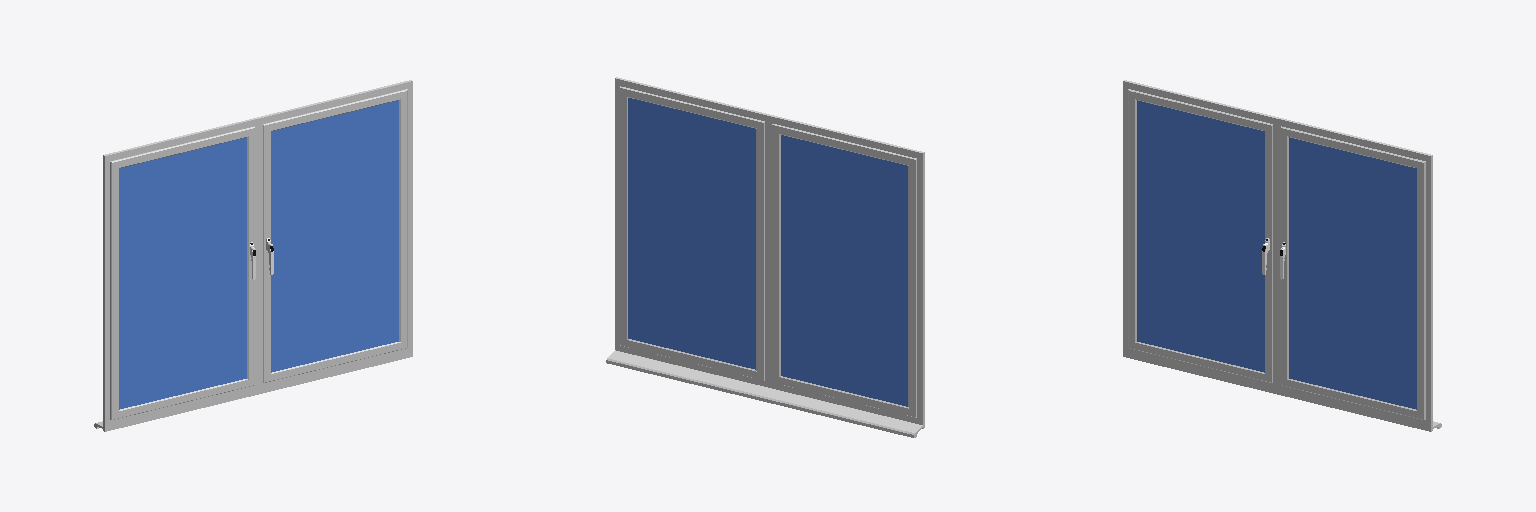
3 views of the same model, side by side, from view 1: azimuth 30°, elevation 25°; view 2: azimuth 150°, elevation 25°; view 3: azimuth 330°, elevation 25° (orthographic).
Parts seen in each view (by area): view 1: Mesh8_Glass2_Component_1_2_Component_2_1_Model, Mesh4_Glass1_Component_1_1_Component_2_1_Model, Mesh9_Component_2_1_Model, Mesh1_Frame1_Component_1_1_Component_2_1_Model, Mesh5_Frame2_Component_1_2_Component_2_1_Model; view 2: Mesh3_Glass1_Component_1_1_Component_2_1_Model, Mesh7_Glass2_Component_1_2_Component_2_1_Model, Mesh9_Component_2_1_Model, Mesh5_Frame2_Component_1_2_Component_2_1_Model, Mesh1_Frame1_Component_1_1_Component_2_1_Model; view 3: Mesh4_Glass1_Component_1_1_Component_2_1_Model, Mesh8_Glass2_Component_1_2_Component_2_1_Model, Mesh9_Component_2_1_Model, Mesh5_Frame2_Component_1_2_Component_2_1_Model, Mesh1_Frame1_Component_1_1_Component_2_1_Model.
Part boxes in pixels (left/top/right/bottom): Mesh8_Glass2_Component_1_2_Component_2_1_Model: left=119, top=137, right=246, bottom=409; Mesh4_Glass1_Component_1_1_Component_2_1_Model: left=271, top=100, right=398, bottom=372; Mesh9_Component_2_1_Model: left=94, top=80, right=412, bottom=431; Mesh1_Frame1_Component_1_1_Component_2_1_Model: left=263, top=89, right=407, bottom=382; Mesh5_Frame2_Component_1_2_Component_2_1_Model: left=110, top=126, right=254, bottom=419; Mesh3_Glass1_Component_1_1_Component_2_1_Model: left=628, top=98, right=755, bottom=369; Mesh7_Glass2_Component_1_2_Component_2_1_Model: left=781, top=135, right=907, bottom=406; Mesh9_Component_2_1_Model: left=606, top=77, right=924, bottom=437; Mesh5_Frame2_Component_1_2_Component_2_1_Model: left=772, top=124, right=916, bottom=417; Mesh1_Frame1_Component_1_1_Component_2_1_Model: left=620, top=86, right=764, bottom=380; Mesh4_Glass1_Component_1_1_Component_2_1_Model: left=1289, top=137, right=1416, bottom=409; Mesh8_Glass2_Component_1_2_Component_2_1_Model: left=1137, top=100, right=1264, bottom=372; Mesh9_Component_2_1_Model: left=1123, top=80, right=1441, bottom=431; Mesh5_Frame2_Component_1_2_Component_2_1_Model: left=1128, top=89, right=1272, bottom=382; Mesh1_Frame1_Component_1_1_Component_2_1_Model: left=1281, top=126, right=1425, bottom=419.
Bounding box in the file's own units: 4.63 × 4.01 × 0.3938.